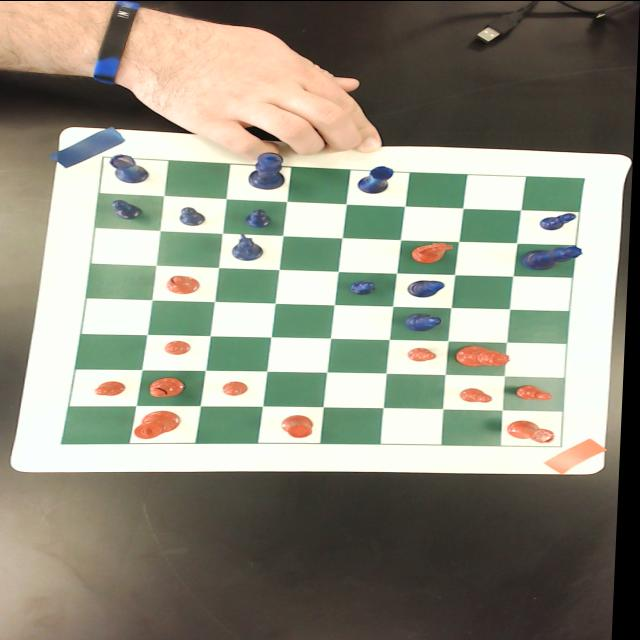B: (407, 312, 446, 332), (409, 279, 448, 297)
K: (250, 152, 289, 189)
N: (233, 232, 268, 260)
P: (111, 199, 147, 219), (541, 212, 580, 230), (247, 208, 275, 228), (181, 206, 209, 226), (351, 280, 380, 294)
Q: (524, 244, 586, 270)
R: (111, 154, 152, 182), (360, 165, 396, 193)
b: (150, 377, 188, 397), (169, 274, 203, 294)
k: (137, 410, 186, 439)
n: (411, 241, 456, 263)
p: (519, 384, 558, 399), (97, 380, 132, 396), (463, 387, 497, 402), (225, 380, 253, 396), (410, 347, 441, 361), (167, 340, 196, 354)
q: (459, 344, 514, 366)
r: (511, 418, 561, 443), (283, 413, 318, 439)
